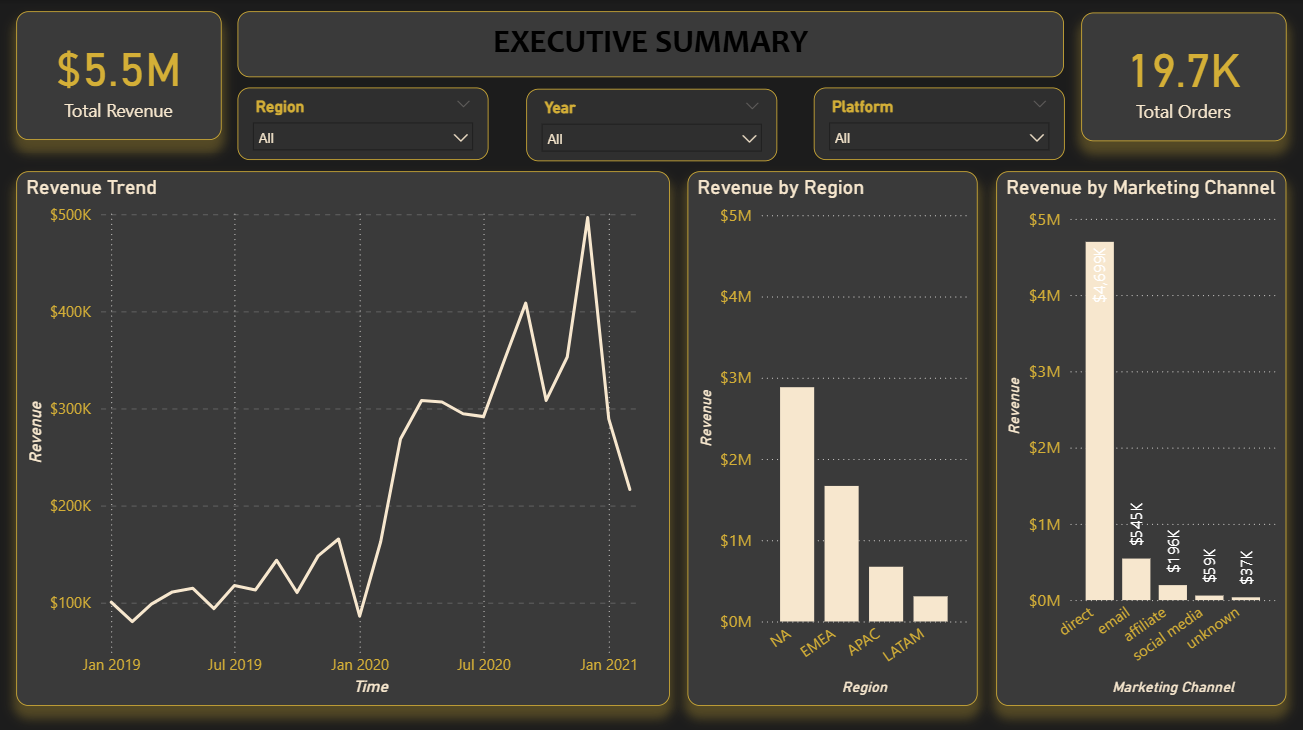

The page's visual inventory and layout, read from the dashboard file:
{"tool":"powerbi","page":{"name":"Executive","canvas":[1280,720],"ordinal":0},"visuals":[{"type":"textbox","box":[233.1,11,811,65],"z":0},{"type":"card","fields":{"Values":["Sum(orders.USD_PRICE)"]},"box":[16,11,201.2,126.4],"z":1000},{"type":"card","fields":{"Values":["Count(orders.ORDER_ID)"]},"box":[1061.4,12.3,201.2,126.4],"z":2000},{"type":"lineChart","title":"Revenue Trend","fields":{"Y":["Sum(orders.USD_PRICE)"],"Category":["Date Table.Year-Month"]},"box":[16,168.1,641.7,525.2],"z":3000},{"type":"columnChart","title":"Revenue by Region","fields":{"Category":["region.REGION"],"Y":["Sum(orders.USD_PRICE)"]},"box":[674.9,168.1,284.7,525.2],"z":4000},{"type":"columnChart","title":"Revenue by Marketing Channel","fields":{"Y":["Sum(orders.USD_PRICE)"],"Category":["orders.MARKETING_CHANNEL"]},"box":[977.9,168.1,284.7,525.2],"z":5000},{"type":"slicer","fields":{"Values":["Date Table.Year"]},"box":[516.2,87.7,246.3,71],"z":6000},{"type":"slicer","fields":{"Values":["region.REGION"]},"box":[233.7,86.3,246.3,71],"z":7000},{"type":"slicer","fields":{"Values":["orders.PURCHASE_PLATFORM"]},"box":[798.6,86.3,246.3,71],"z":8000}]}

Visuals, with their boxes in screenshot pixels (x1, y1, x2, y2), scaled from the page's 1280x720 canvas onto the 1303x730 screenshot:
textbox: {"x1": 237, "y1": 11, "x2": 1063, "y2": 77}
card - Sum(orders.USD_PRICE): {"x1": 16, "y1": 11, "x2": 221, "y2": 139}
card - Count(orders.ORDER_ID): {"x1": 1080, "y1": 12, "x2": 1285, "y2": 141}
"Revenue Trend" lineChart: {"x1": 16, "y1": 170, "x2": 670, "y2": 703}
"Revenue by Region" columnChart: {"x1": 687, "y1": 170, "x2": 977, "y2": 703}
"Revenue by Marketing Channel" columnChart: {"x1": 995, "y1": 170, "x2": 1285, "y2": 703}
slicer - Date Table.Year: {"x1": 525, "y1": 89, "x2": 776, "y2": 161}
slicer - region.REGION: {"x1": 238, "y1": 87, "x2": 489, "y2": 159}
slicer - orders.PURCHASE_PLATFORM: {"x1": 813, "y1": 87, "x2": 1064, "y2": 159}
